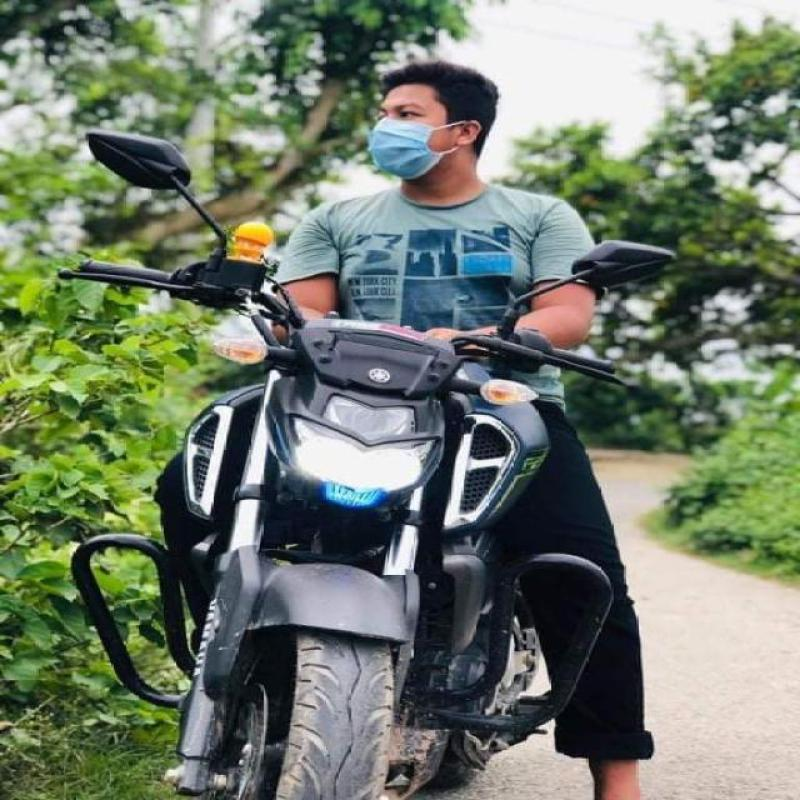nohelmet: (362, 59, 530, 192)
